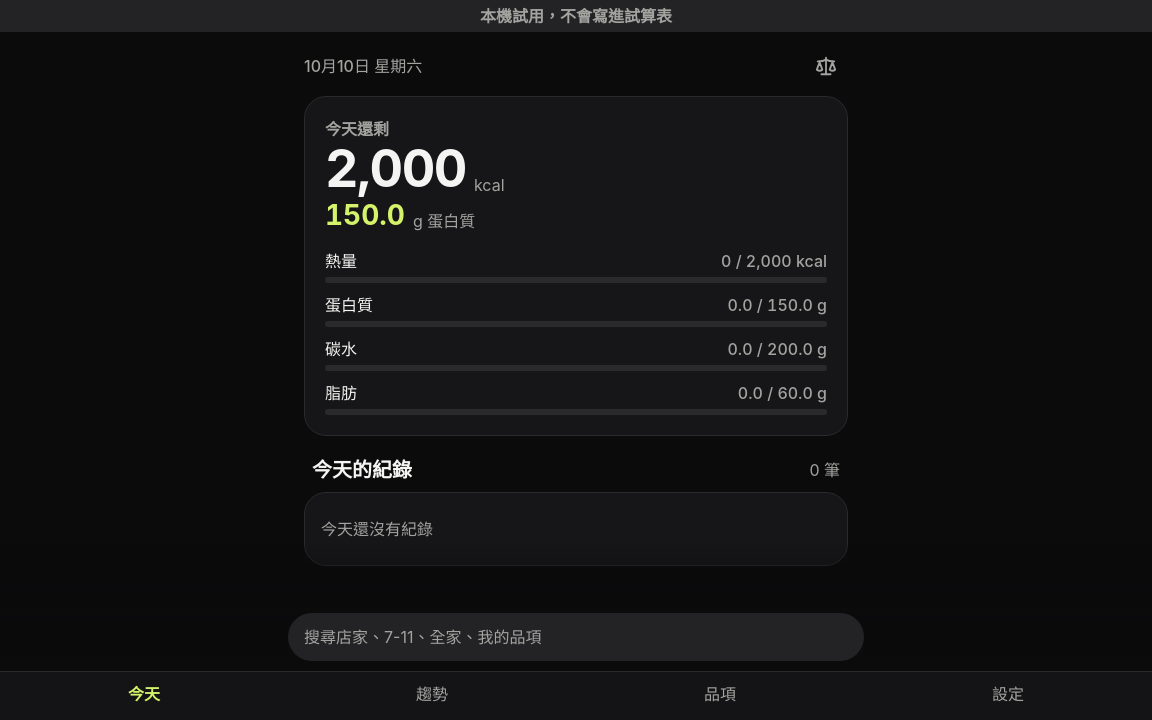
it: 完整品項：搜尋框、結果、記錄，三下後今天出現該筆
Click the button "搜尋店家、7-11、全家、我的品項". click: (423,637)
box: x1=288 y1=613 x2=864 y2=661
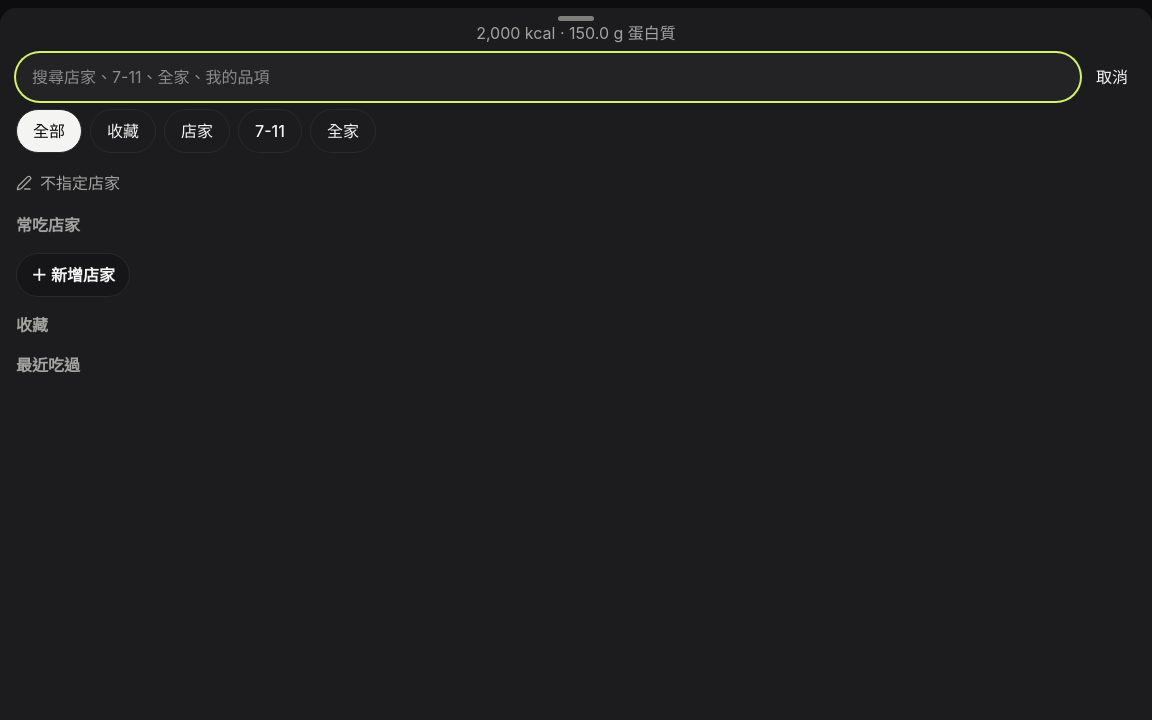
Type "雞胸" into the search field. click: (548,77)
box: x1=16 y1=53 x2=1080 y2=101
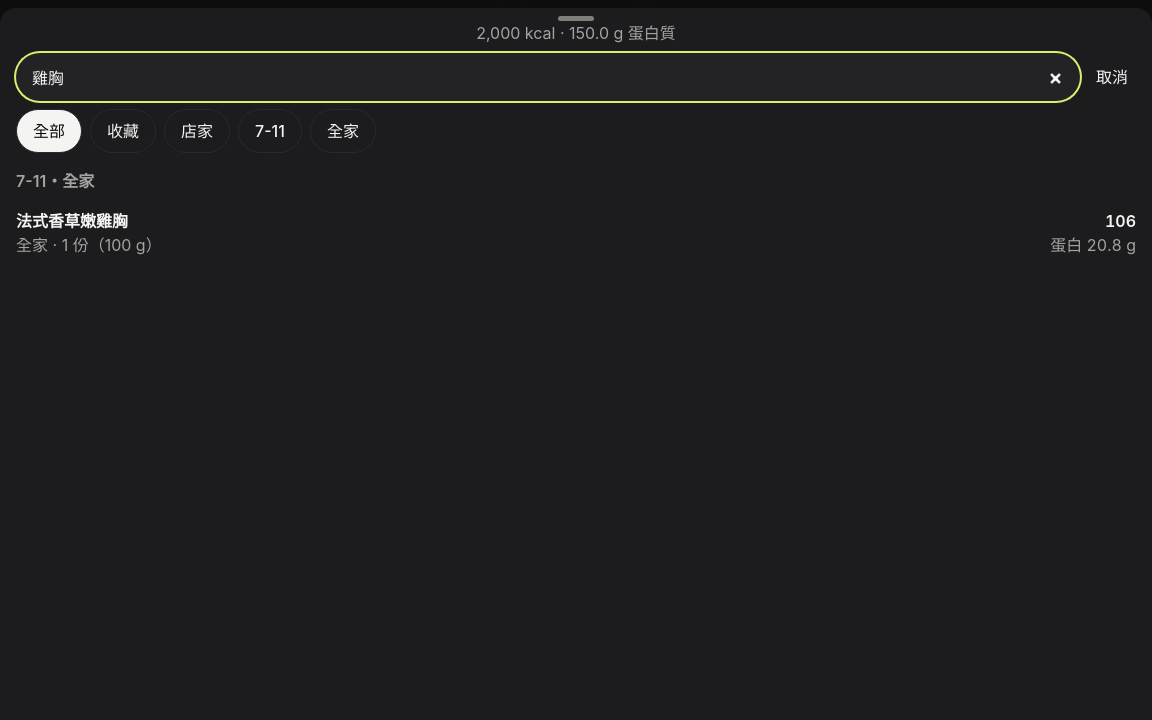
Click the text "法式香草嫩雞胸". click: (72,221)
box: x1=16 y1=211 x2=128 y2=231
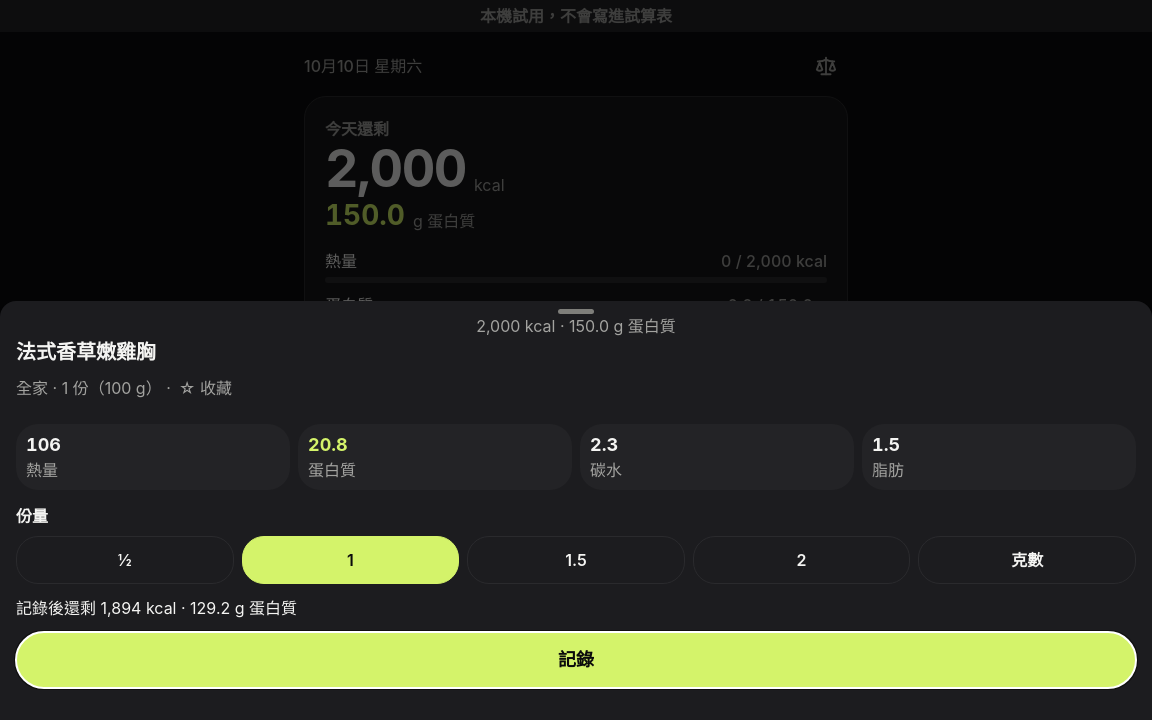
Click the button "記錄". click: (576,660)
box: x1=16 y1=632 x2=1136 y2=688
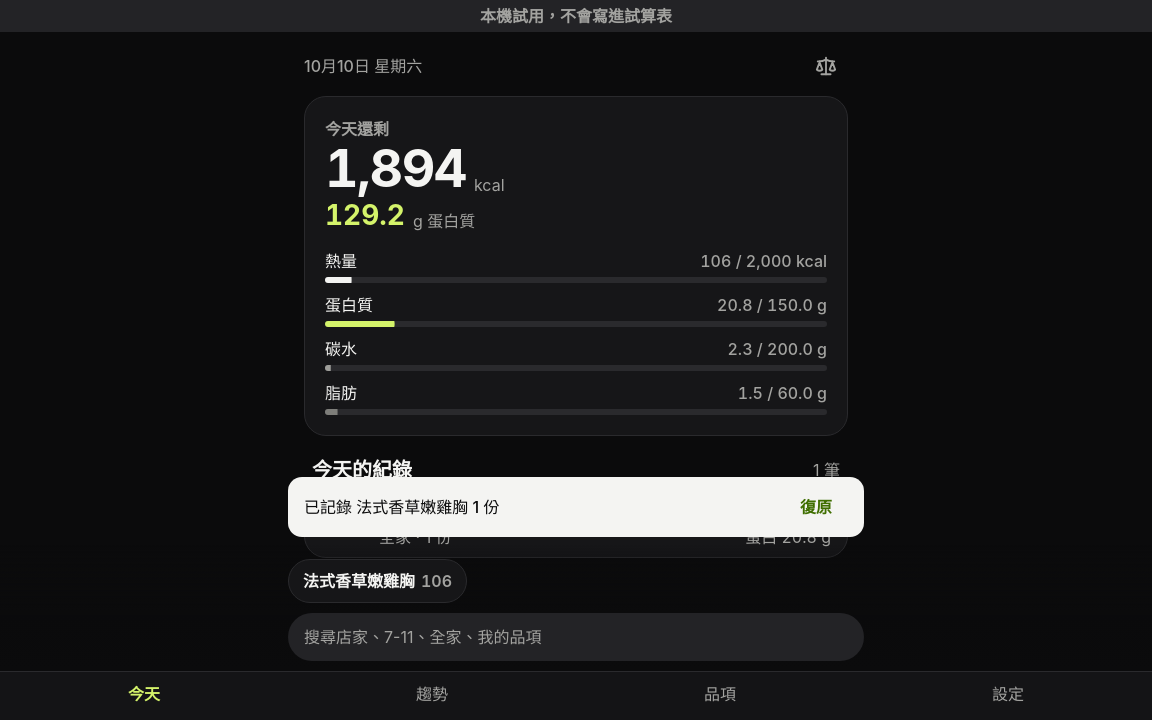
Check: the text "法式香草嫩雞胸" below "今天的紀錄" is shown, box x1=379 y1=503 x2=491 y2=523
